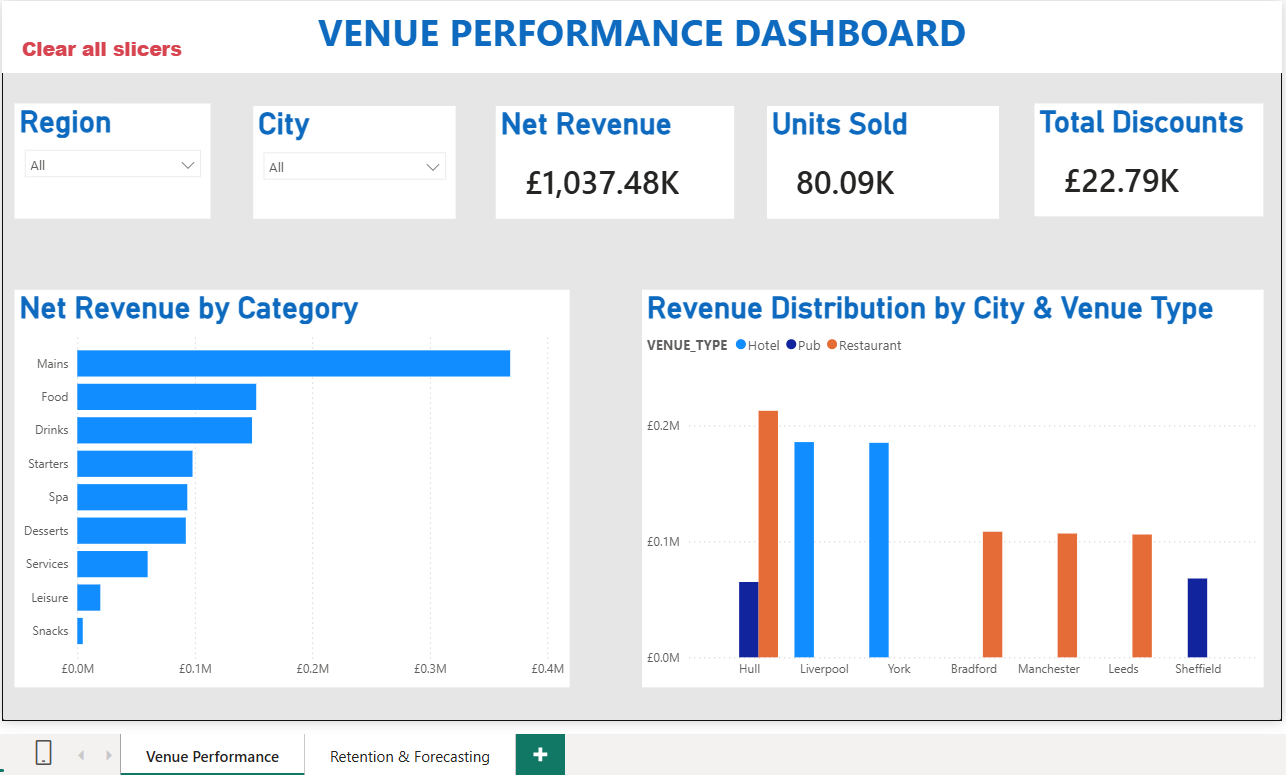

The page's visual inventory and layout, read from the dashboard file:
{"tool":"powerbi","page":{"name":"Venue Performance","canvas":[1280,720],"ordinal":0},"visuals":[{"type":"slicer","title":"Region","fields":{"Values":["FCT_VENUE_PERFORMANCE_SHOWCASE.REGION"]},"box":[12.5,102.5,196.2,115],"z":0},{"type":"slicer","title":"City","fields":{"Values":["FCT_VENUE_PERFORMANCE_SHOWCASE.CITY"]},"box":[251.2,105,202.5,112.5],"z":1000},{"type":"cardVisual","title":"Net Revenue","fields":{"Data":["Sum(FCT_VENUE_PERFORMANCE_SHOWCASE.TOTAL_NET_REVENUE)"]},"box":[493.8,104.5,238.1,112.6],"z":2000},{"type":"cardVisual","title":"Units Sold","fields":{"Data":["Sum(FCT_VENUE_PERFORMANCE_SHOWCASE.TOTAL_UNITS_SOLD)"]},"box":[765.6,104.5,231.6,112.6],"z":3000},{"type":"cardVisual","title":"Total Discounts","fields":{"Data":["Sum(FCT_VENUE_PERFORMANCE_SHOWCASE.TOTAL_DISCOUNTS_GIVEN)"]},"box":[1032.6,102.9,228.4,112.6],"z":4000},{"type":"clusteredBarChart","title":"Net Revenue by Category","fields":{"Category":["FCT_VENUE_PERFORMANCE_SHOWCASE.CATEGORY"],"Y":["Sum(FCT_VENUE_PERFORMANCE_SHOWCASE.TOTAL_NET_REVENUE)"]},"box":[12.5,288.8,555,397.5],"z":5000},{"type":"clusteredColumnChart","title":"Revenue Distribution by City & Venue Type","fields":{"Category":["FCT_VENUE_PERFORMANCE_SHOWCASE.CITY"],"Y":["Sum(FCT_VENUE_PERFORMANCE_SHOWCASE.TOTAL_NET_REVENUE)"],"Series":["FCT_VENUE_PERFORMANCE_SHOWCASE.VENUE_TYPE"]},"box":[640,288.8,621.2,397.5],"z":6000},{"type":"textbox","box":[0,0,1280.3,72.4],"z":7000},{"type":"actionButton","box":[0,22.5,199.4,49.9],"z":8000}]}

Visuals, with their boxes on the page's 1280x720 design canvas (x1, y1, x2, y2). These are canvas units, not pixel positions in the 1286x775 screenshot, which may show the page scaled, cropped or inside an application window:
"Region" slicer: [x1=12, y1=102, x2=209, y2=218]
"City" slicer: [x1=251, y1=105, x2=454, y2=218]
"Net Revenue" cardVisual: [x1=494, y1=104, x2=732, y2=217]
"Units Sold" cardVisual: [x1=766, y1=104, x2=997, y2=217]
"Total Discounts" cardVisual: [x1=1033, y1=103, x2=1261, y2=216]
"Net Revenue by Category" clusteredBarChart: [x1=12, y1=289, x2=568, y2=686]
"Revenue Distribution by City & Venue Type" clusteredColumnChart: [x1=640, y1=289, x2=1261, y2=686]
textbox: [x1=0, y1=0, x2=1280, y2=72]
actionButton: [x1=0, y1=22, x2=199, y2=72]
